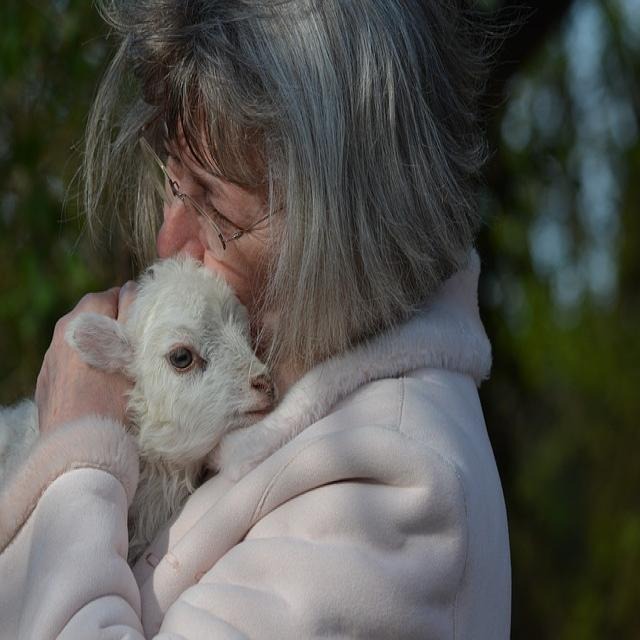goat: (103, 245, 273, 562)
